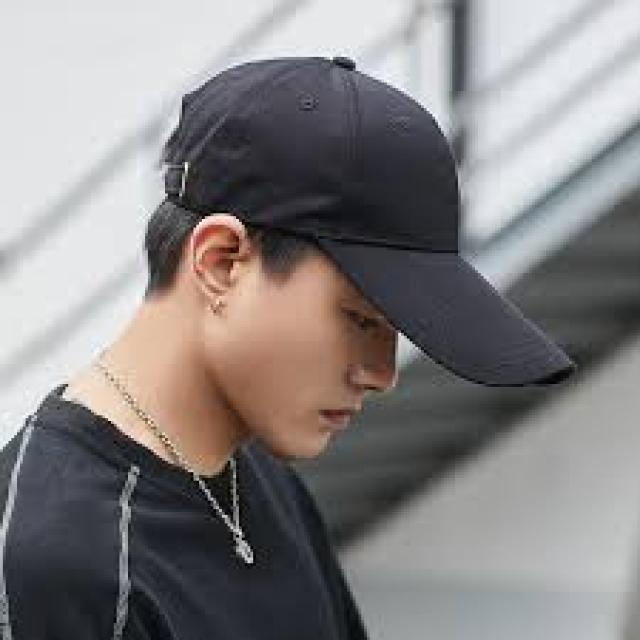cap: (146, 34, 601, 410)
